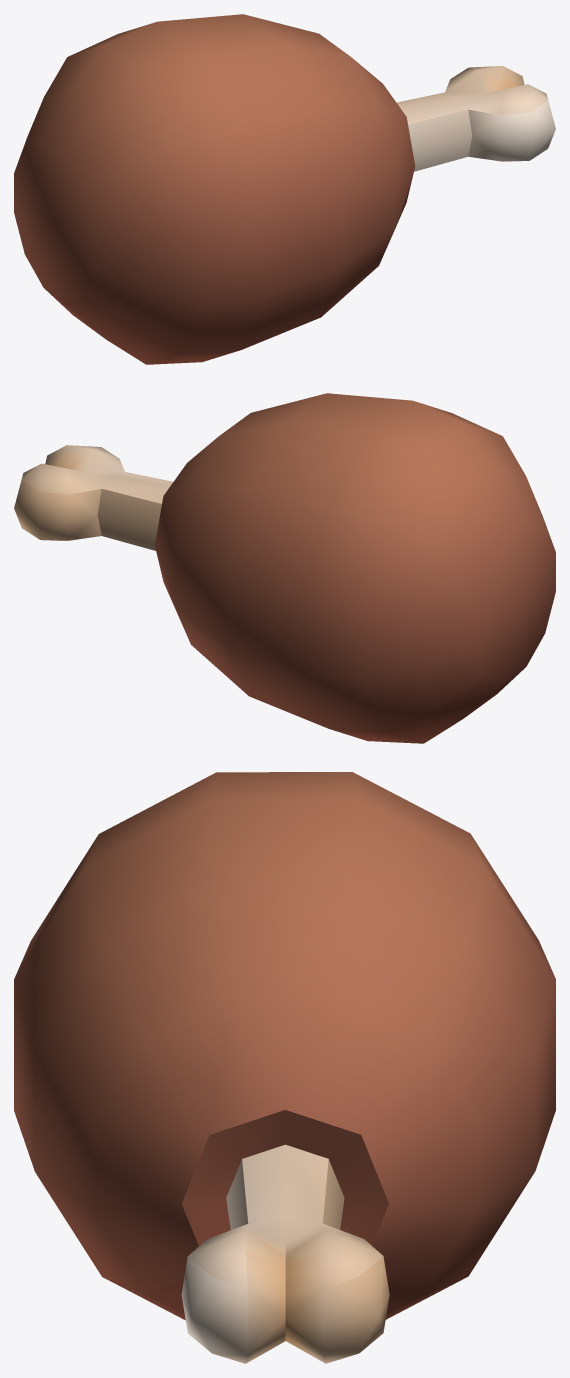
The model's file is Cooked ham.glb.
3 views of the same model, one above another, from view 1: azimuth 30°, elevation 25°; view 2: azimuth 150°, elevation 25°; view 3: azimuth 270°, elevation 25° (orthographic). The views are drawn at different scales.
Visible parts, largest first — view 1: food_ingredient_ham_cooked; view 2: food_ingredient_ham_cooked; view 3: food_ingredient_ham_cooked.
Part boxes in pixels (bbox=[...]): food_ingredient_ham_cooked: bbox=[14, 14, 555, 364]; food_ingredient_ham_cooked: bbox=[14, 393, 555, 743]; food_ingredient_ham_cooked: bbox=[14, 772, 555, 1363].
Bounding box in the file's own units: 1.39 × 0.83 × 0.83.
1 material, 1 textured.
